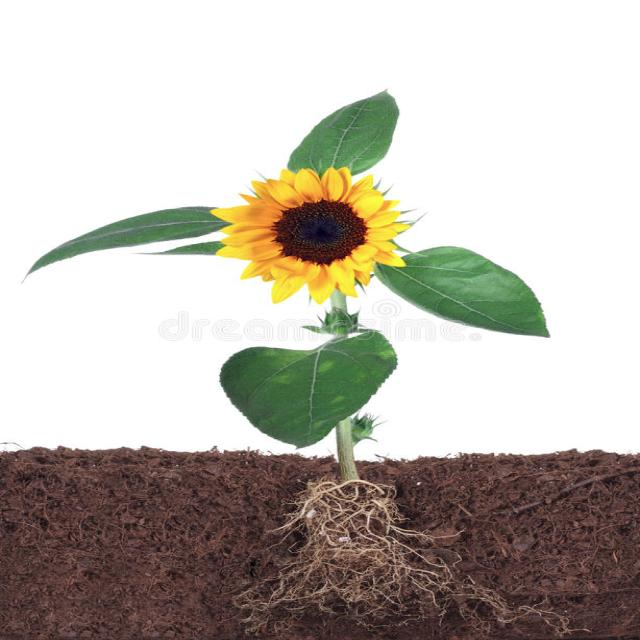sunflower: (205, 160, 419, 295)
